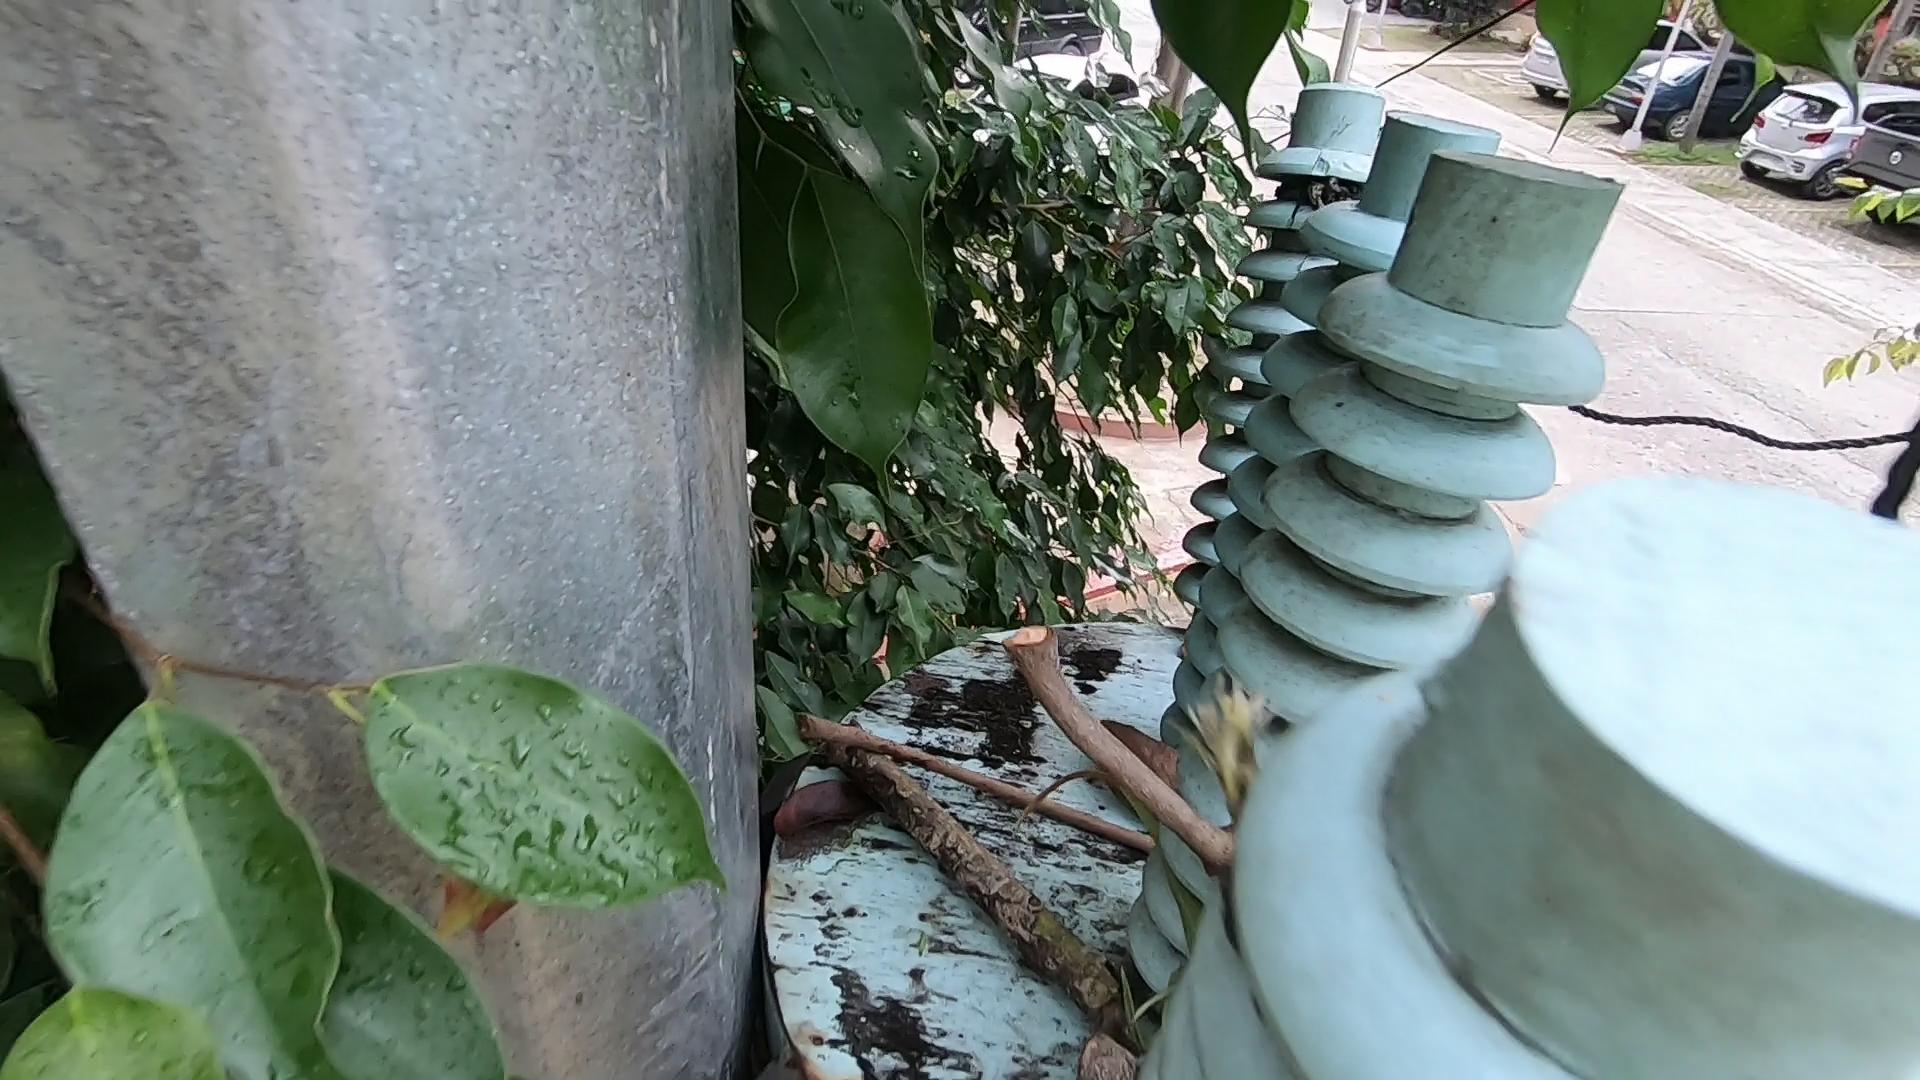branch with leaves: (796, 707, 1166, 1025)
leaf: (762, 785, 942, 872)
mahogany fruit: (1068, 674, 1261, 862)
tree branch: (992, 621, 1280, 894), (787, 709, 1153, 853)
